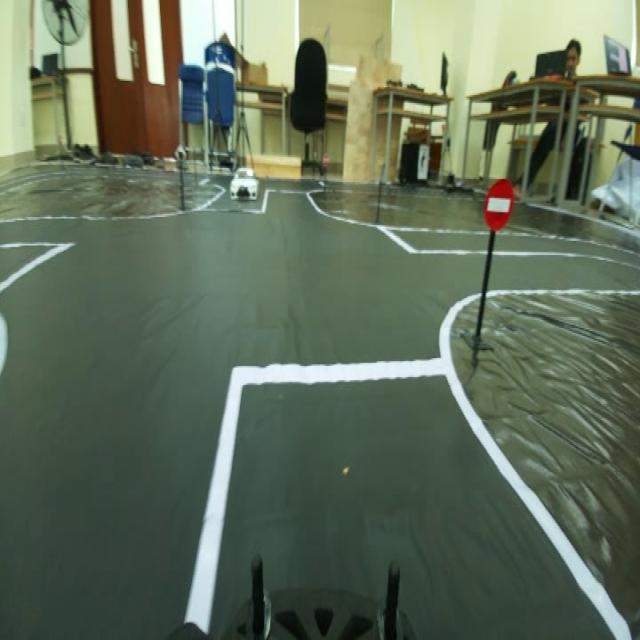car: (226, 157, 265, 212)
no_entry: (478, 171, 516, 231)
